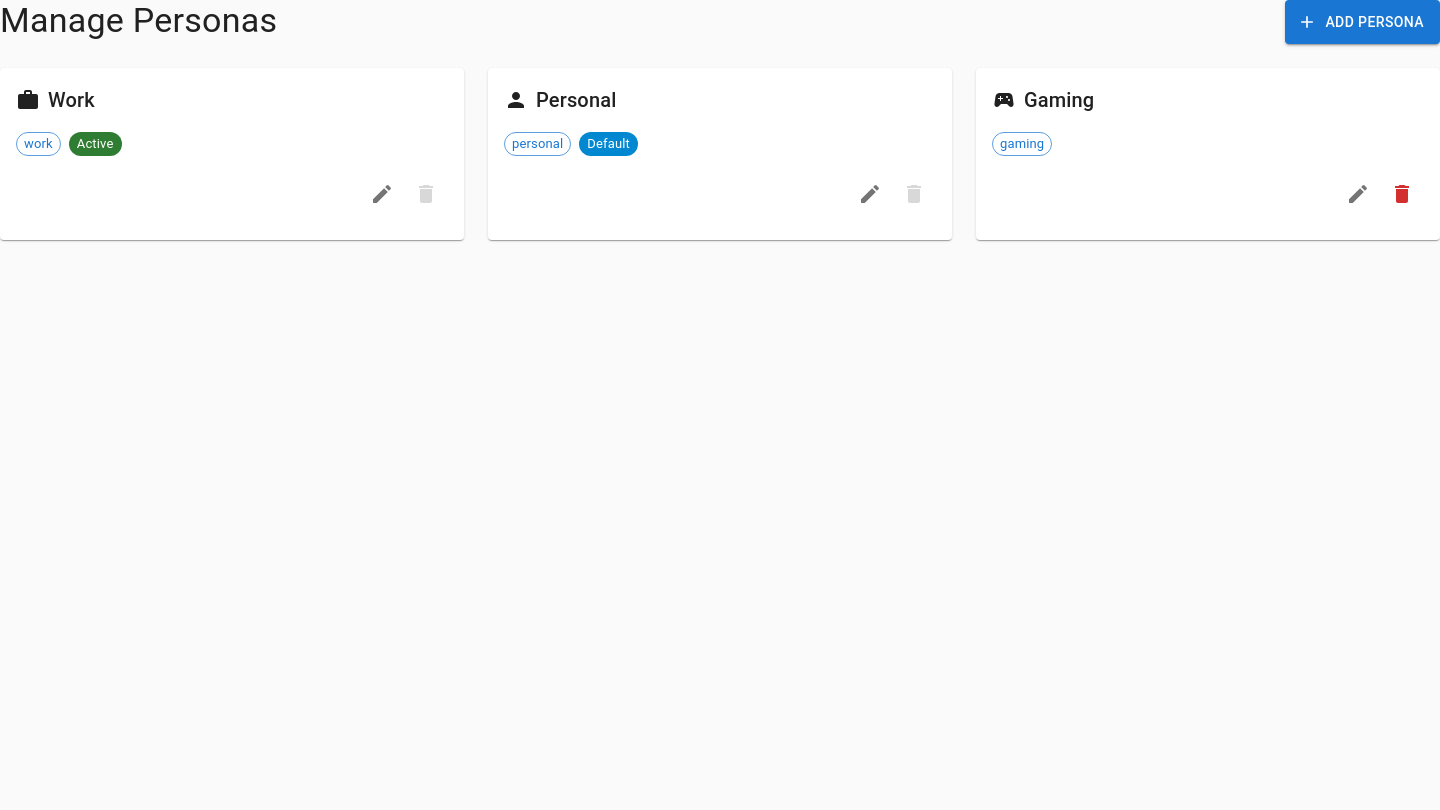
it: PersonaManagement › should open create persona dialog when add button is clicked
The width and height of the screenshot is (1440, 810).
Click the button "Add Persona" at (1363, 22), box [1285,0,1439,44]
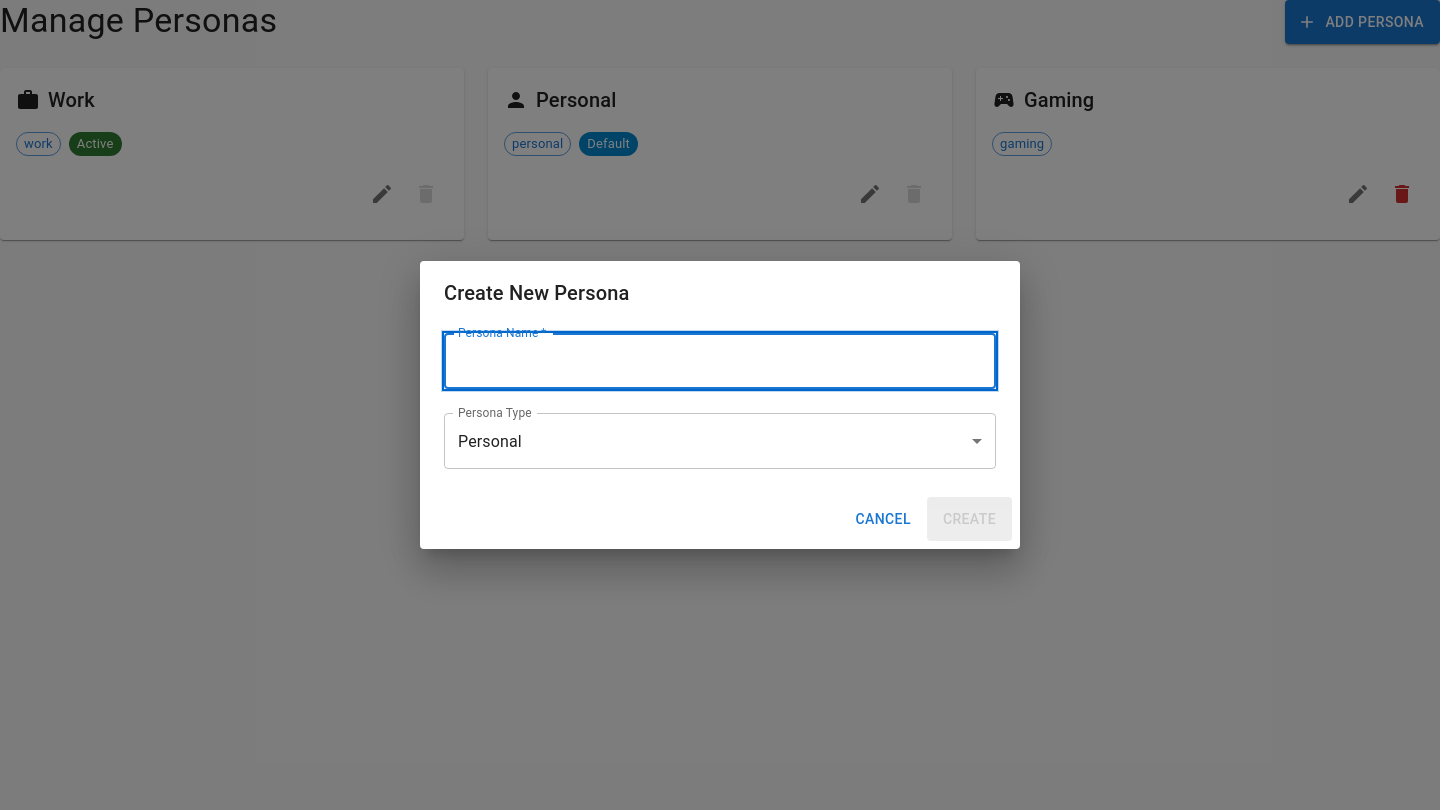
Expected: the dialog is shown, [420,261,1020,549]
Expected: the heading "Create New Persona" is shown, [444,281,629,305]
